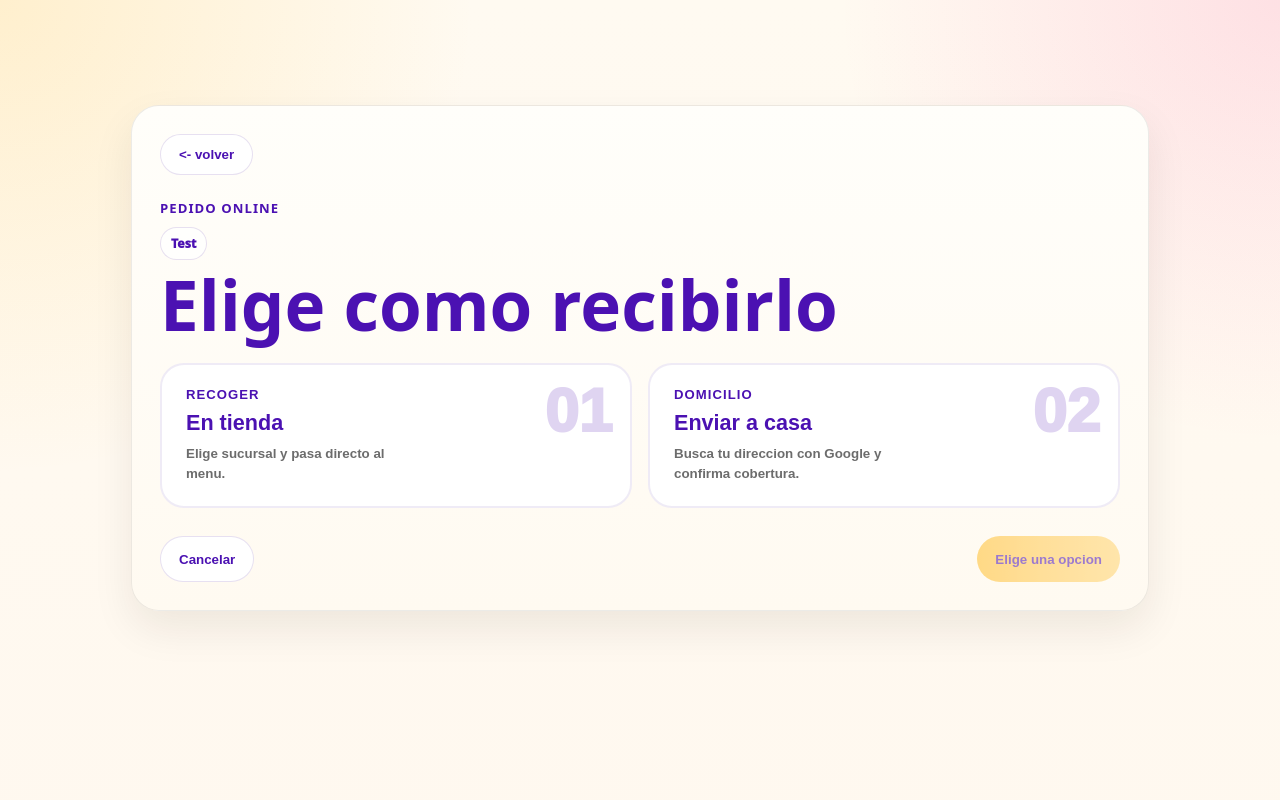
Test case: a single city skips city selection and missing-city stores remain reachable
Click the button "01 Recoger En tienda Elige sucursal y pasa directo al menu." at (578, 411), box [160, 363, 632, 508]
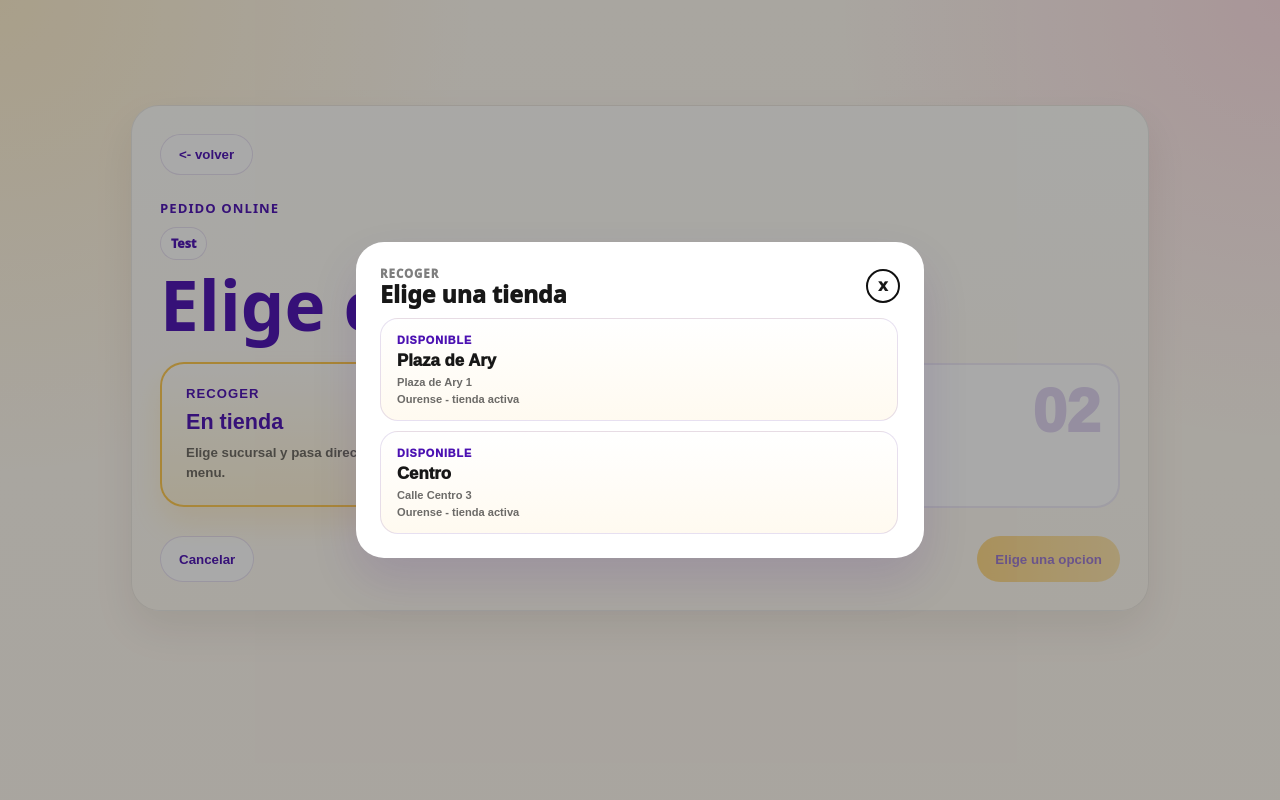
Check: the text "Plaza de Ary" is shown, box [397, 351, 496, 370]
Check: the text "Centro" is shown, box [397, 464, 451, 483]
